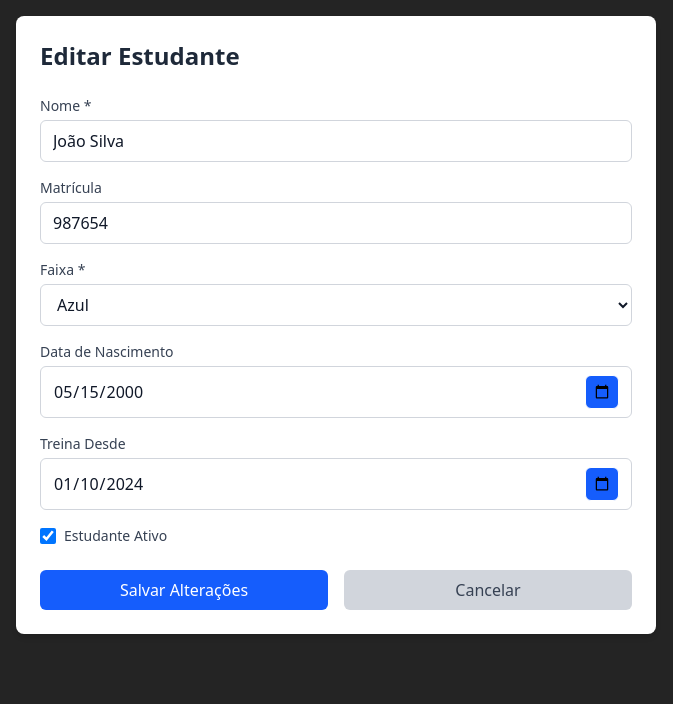
Test: StudentEdit › should display error message when update fails
This screenshot has width=673, height=704.
Expected: the field showing "João Silva" is shown, 40,120 -> 632,162
Click the button "Salvar Alterações" at (184, 590), box 40,570 -> 328,610
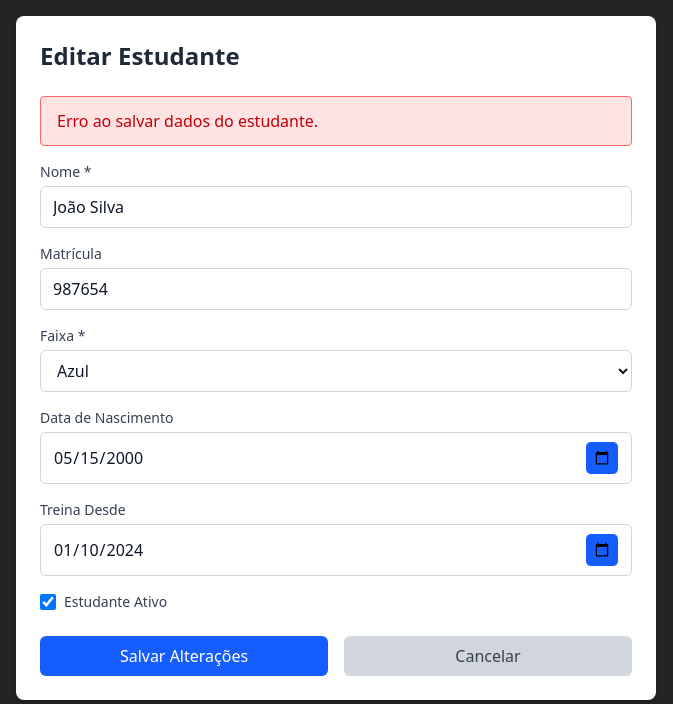
Result: the text "Erro ao salvar dados do estudante." is shown at 40,96 -> 632,146
